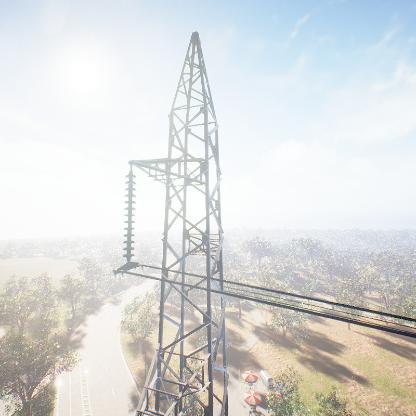insulator: (121, 173, 138, 262)
